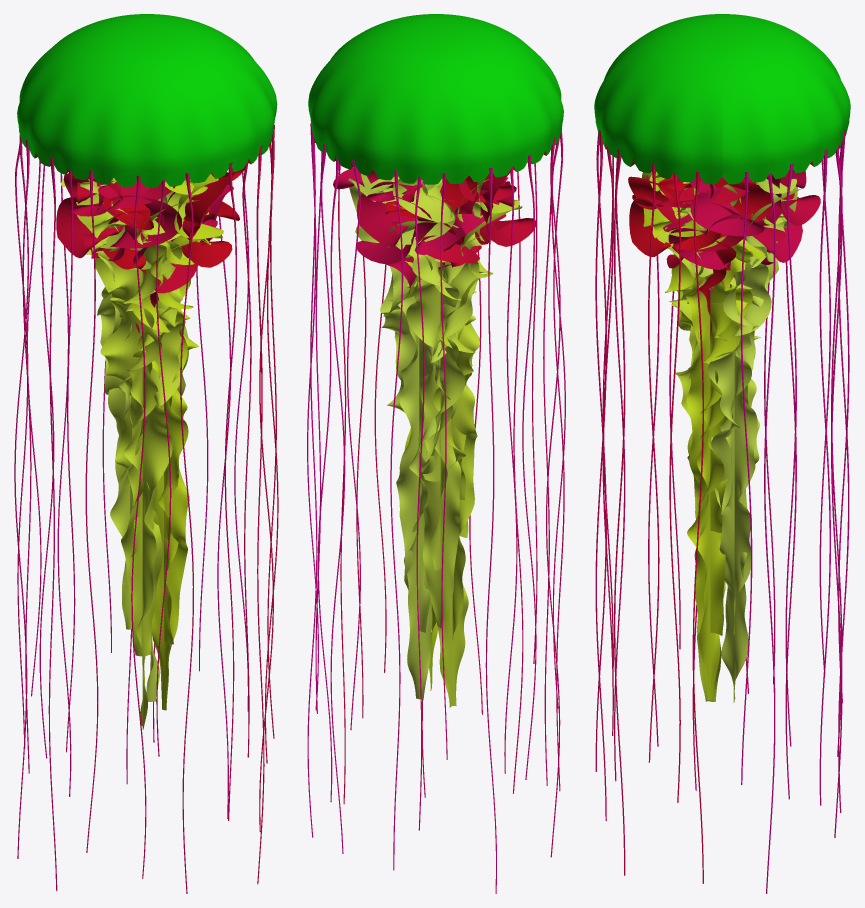
Rendered from sea_nettle.glb.
3 renders of one model, left to right at view 1: azimuth 30°, elevation 25°; view 2: azimuth 150°, elevation 25°; view 3: azimuth 270°, elevation 25°, orthographic.
Parts seen in each view (by area): view 1: sea_nettle; view 2: sea_nettle; view 3: sea_nettle.
Boxes of the visible parts, box(x1,y1,x2,y2) form: sea_nettle: box(14, 14, 278, 893); sea_nettle: box(307, 14, 565, 893); sea_nettle: box(594, 14, 850, 893).
Bounding box in the file's own units: 1.79 × 6.28 × 1.79.
